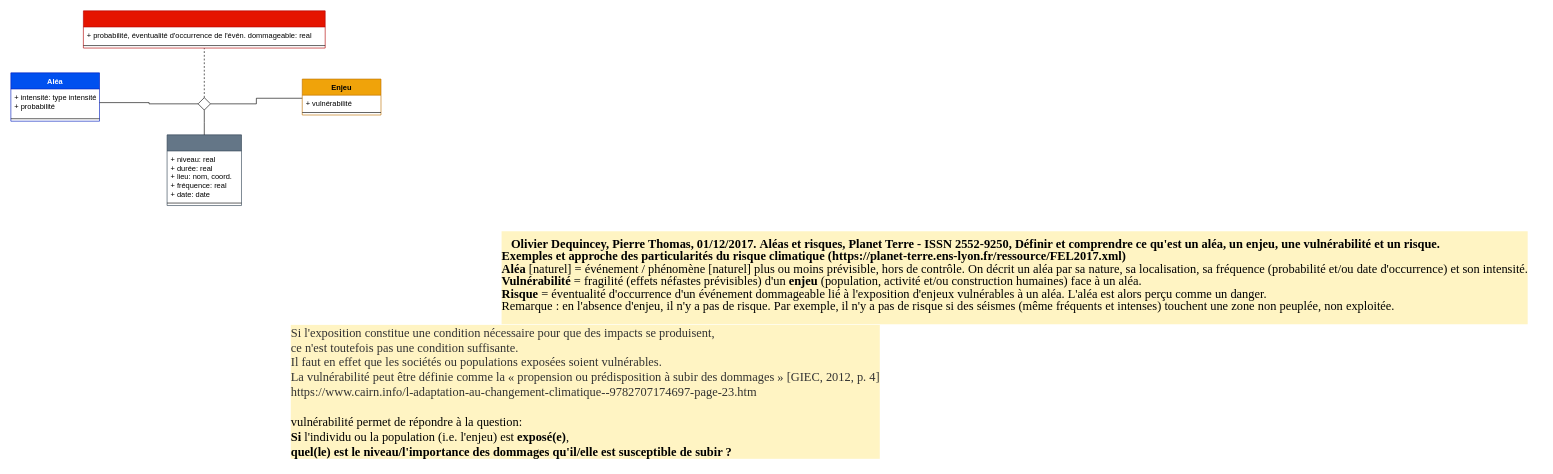
This 1553x474 diagram has some shape labels left out. The shapes that lost their labels are listed below. From the top down, each one's box as (x1, y1, x2, y2) in pixels, then its label:
(83, 10, 325, 48): Risque
(166, 134, 241, 206): Exposition
